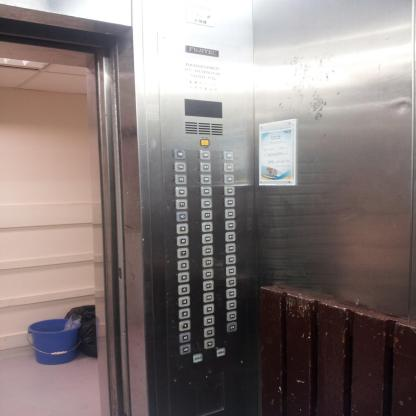1: (179, 320, 190, 331)
10: (176, 211, 188, 221)
11: (176, 198, 188, 209)
12: (175, 186, 187, 196)
13: (175, 174, 186, 184)
14: (174, 161, 186, 172)
15: (174, 149, 185, 159)
16: (204, 338, 214, 349)
17: (204, 326, 214, 337)
18: (203, 316, 214, 326)
19: (203, 303, 214, 314)
2: (179, 308, 190, 318)
20: (203, 292, 214, 302)
21: (202, 280, 214, 291)
22: (202, 269, 214, 278)
23: (202, 256, 213, 267)
24: (202, 245, 213, 255)
25: (202, 234, 212, 244)
26: (202, 222, 212, 232)
27: (201, 210, 212, 219)
28: (201, 198, 212, 208)
29: (201, 186, 211, 196)
3: (178, 296, 190, 306)
30: (200, 174, 211, 184)
31: (200, 162, 211, 172)
32: (200, 150, 210, 160)
33: (226, 321, 236, 332)
34: (227, 310, 236, 320)
35: (226, 300, 236, 310)
36: (226, 288, 236, 298)
37: (226, 276, 236, 286)
38: (226, 266, 236, 275)
39: (226, 254, 235, 264)
4: (178, 283, 190, 295)
40: (226, 243, 235, 252)
41: (225, 231, 235, 241)
42: (225, 220, 235, 230)
43: (224, 209, 236, 218)
44: (224, 197, 235, 207)
45: (224, 186, 234, 195)
46: (224, 174, 234, 183)
47: (223, 162, 234, 172)
48: (223, 150, 234, 160)
5: (178, 272, 189, 282)
6: (177, 260, 189, 270)
7: (177, 247, 188, 258)
8: (176, 235, 188, 246)
9: (176, 224, 188, 233)
DC: (217, 347, 225, 357)
DO: (192, 352, 202, 362)
G: (179, 332, 190, 343)
UB: (179, 343, 191, 354)
alarm: (200, 139, 209, 146)
led: (184, 99, 222, 119)
